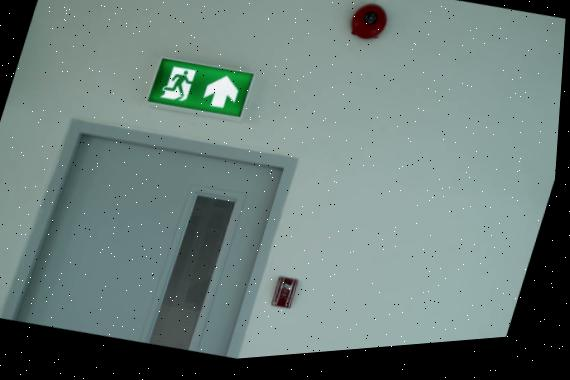emergency_exit: (146, 57, 254, 119)
